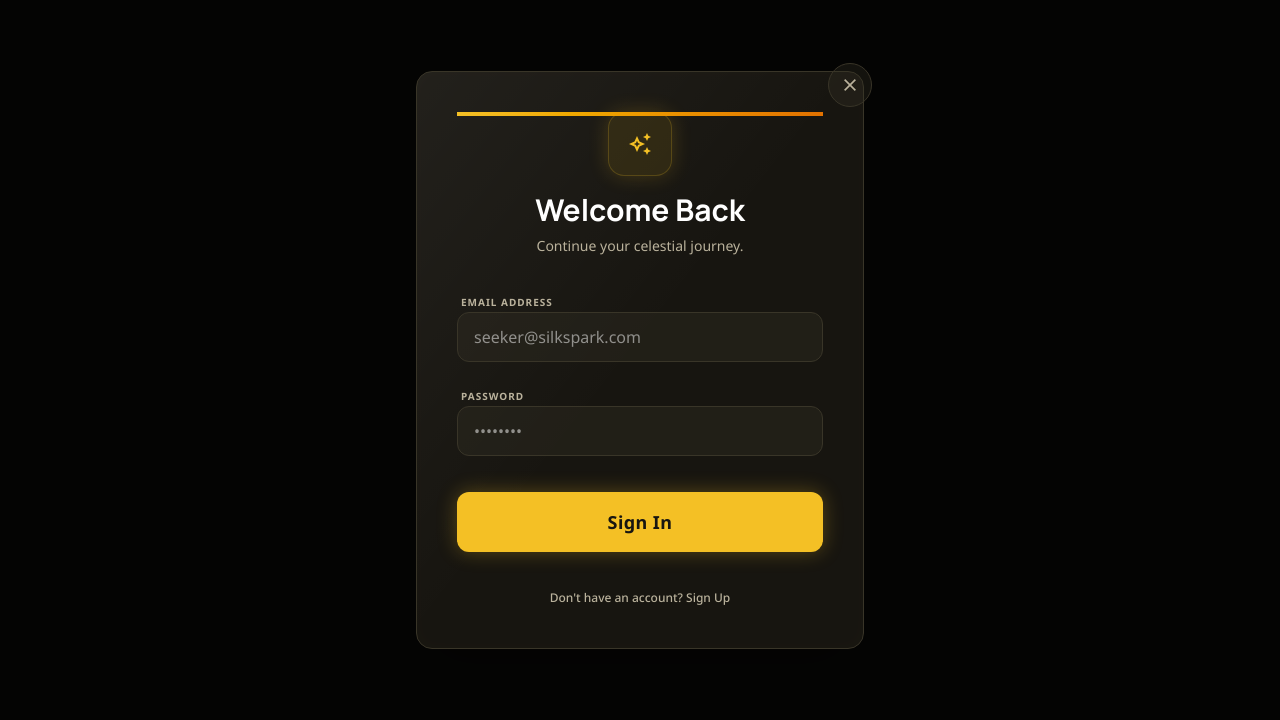
Test: Auth › switching forms › should switch to sign up form when clicking sign up link
The image size is (1280, 720).
What coordinates should you click on to do the following:
click the button "Don't have an account? Sign Up"
I would click on:
 (640, 598)
Its box is x1=550 y1=590 x2=730 y2=606.
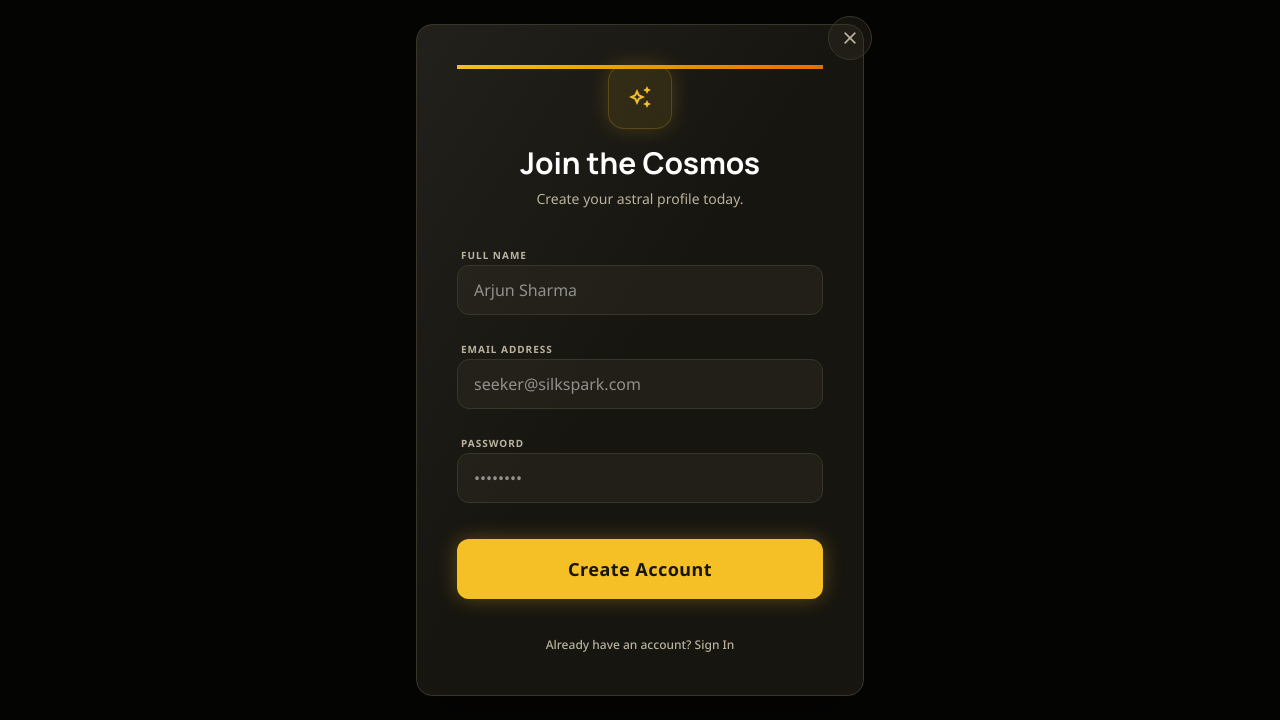
Expected: the heading "Join the Cosmos" is shown, x1=520 y1=142 x2=760 y2=183
Expected: the text "Create your astral profile today." is shown, x1=536 y1=189 x2=744 y2=208
